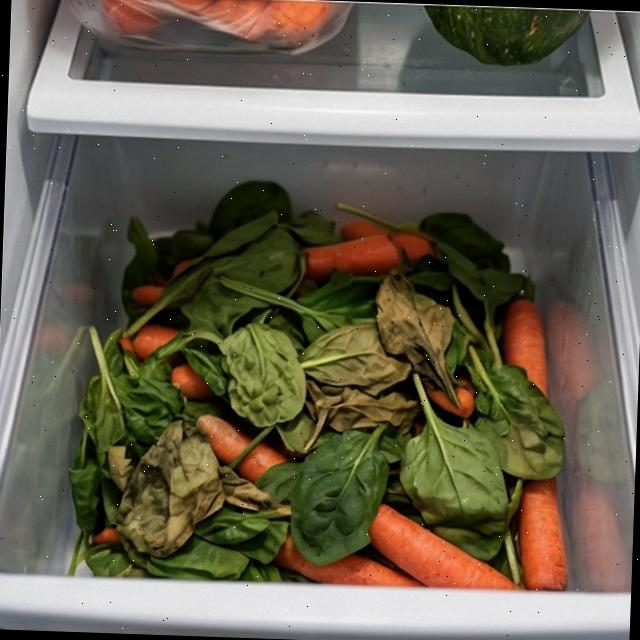rotten spinach: (62, 191, 592, 590)
